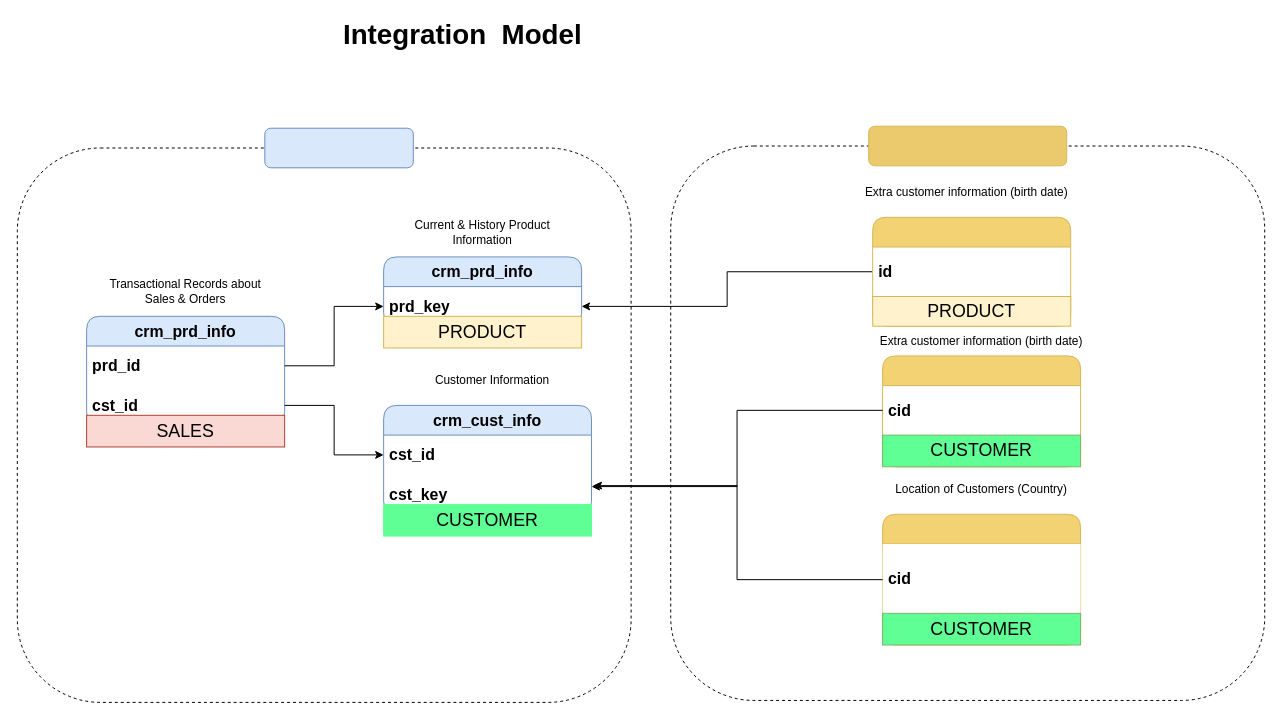
This 1282x720 diagram has some shape labels left out. The box of each missing label's shape, as (x1, y1, x2, y2) in pixels:
CRM: (264, 127, 413, 168)
ERP: (868, 125, 1067, 166)
erp_cust_az12: (882, 355, 1081, 467)
erp_loc_a101: (882, 513, 1081, 645)
erp_px_cat_g1v2: (872, 216, 1071, 326)
